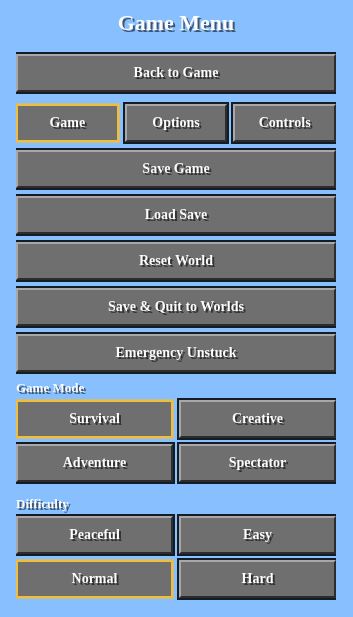
Test: PauseMenu › the Controls tab shows gestures instead of keys while touch is active
The width and height of the screenshot is (353, 617).
Click the button "Controls".
click(285, 123)  # box [233,104,336,142]
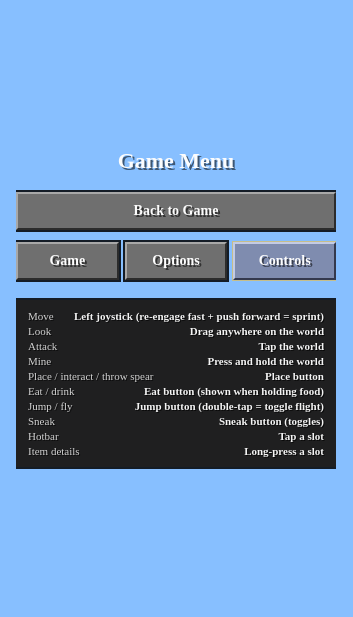
Now the text "Press and hold the world" is shown, box [208,354,324,366]
